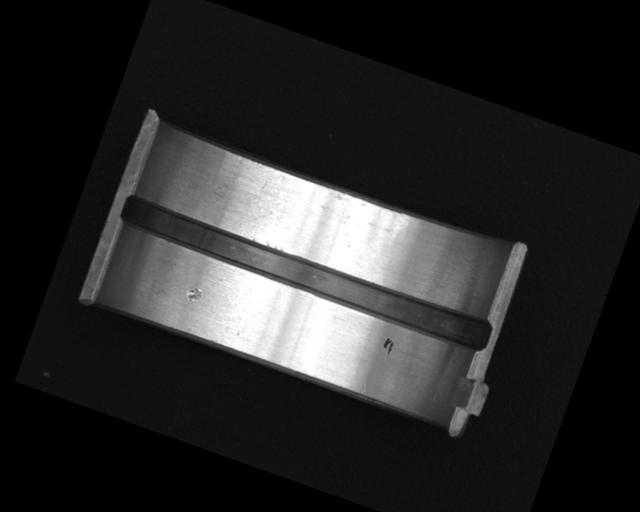blot: (380, 335, 396, 356)
bruise: (184, 284, 205, 306)
gap: (115, 191, 493, 357)
